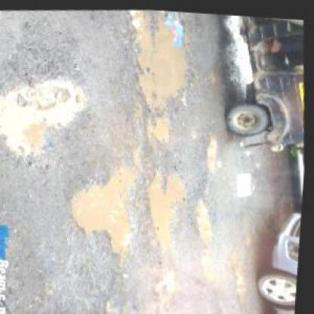Hueco: (0, 64, 103, 167), (64, 157, 150, 259), (146, 165, 197, 254), (194, 197, 222, 245), (147, 109, 178, 145), (203, 130, 226, 173), (103, 293, 141, 313)
